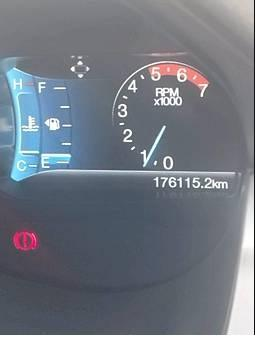-: (201, 185, 203, 189)
1: (177, 176, 183, 189), (153, 176, 159, 188), (185, 176, 190, 189)
2: (204, 177, 212, 189)
5: (192, 177, 200, 189)
6: (169, 176, 177, 189)
7: (160, 176, 168, 188)
X: (219, 181, 229, 190), (212, 178, 218, 190)
odometer: (150, 173, 231, 191)
